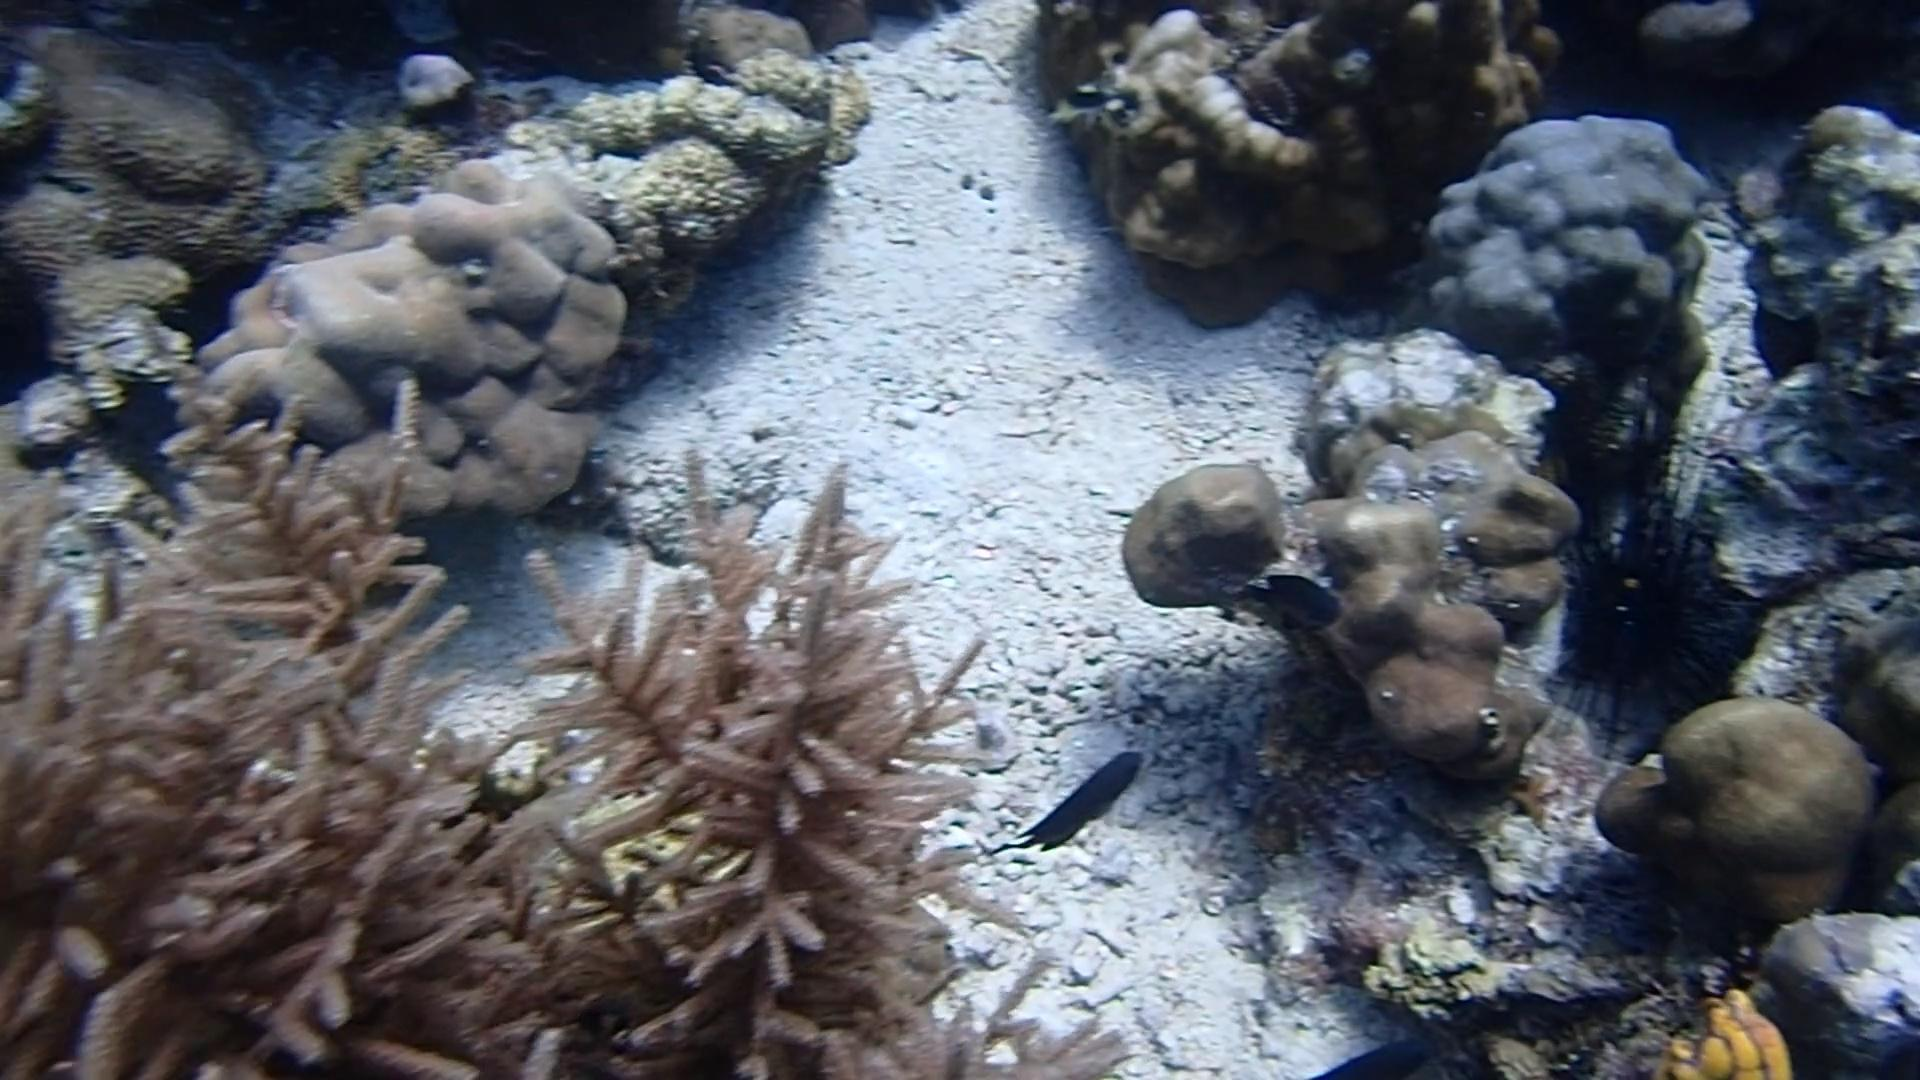Dark Fish: (1000, 733, 1151, 860), (1230, 562, 1346, 638)
Yellow Tail: (1038, 74, 1125, 137)
